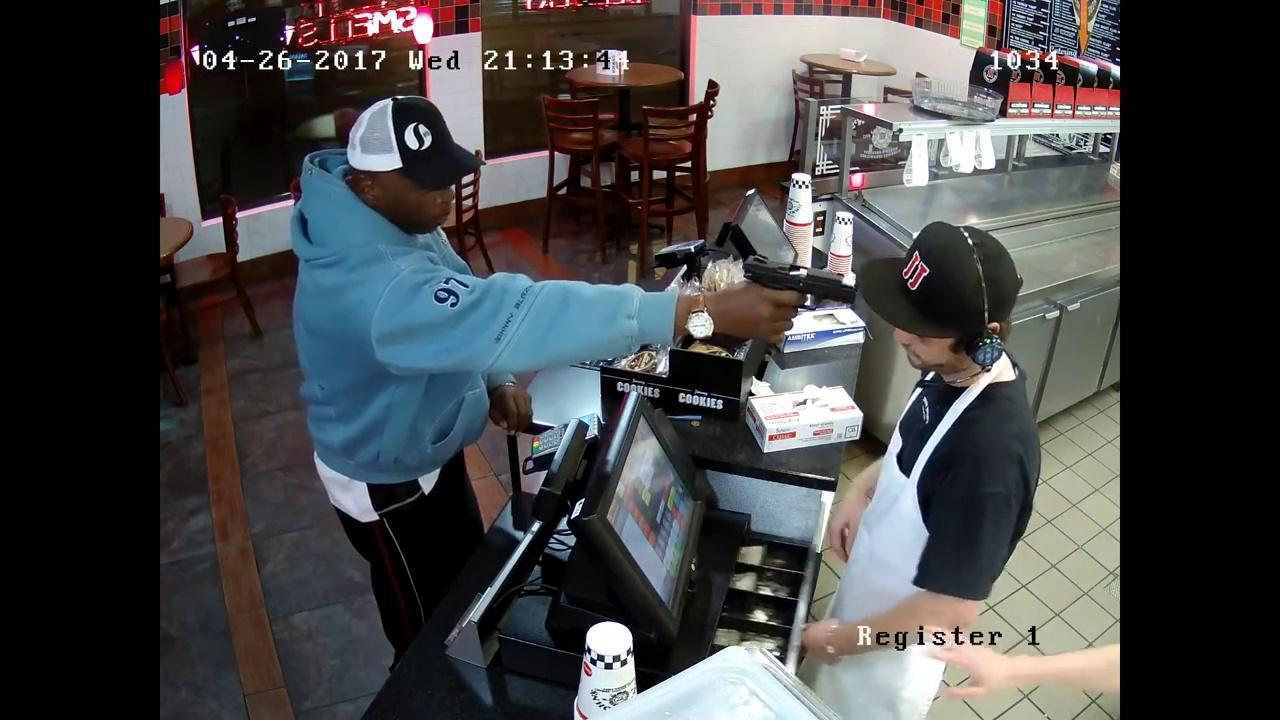Guns: (725, 239, 877, 323)
